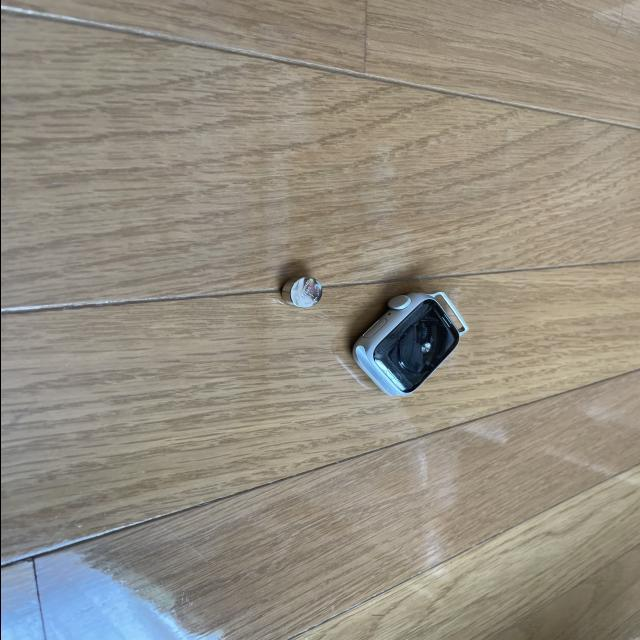COIN: (280, 275, 322, 309)
